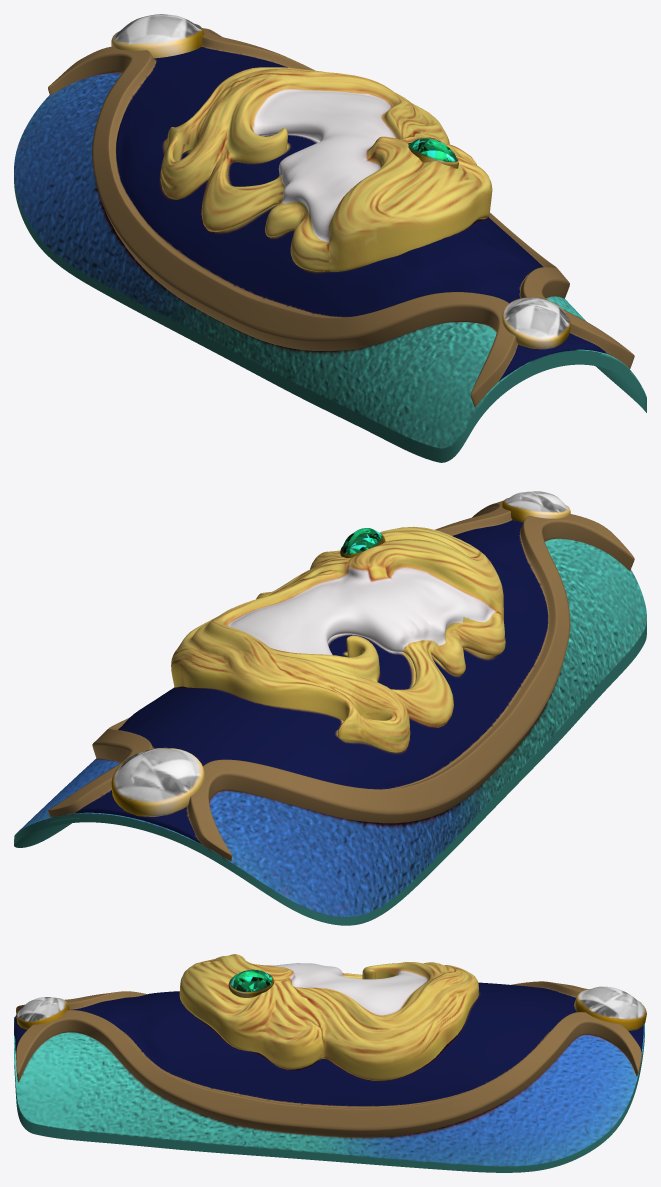
File: ai_shen_wumingzhi_L_tx03.obj
3 views of the same model, one above another, from view 1: azimuth 30°, elevation 25°; view 2: azimuth 150°, elevation 25°; view 3: azimuth 270°, elevation 25° (orthographic). The views are drawn at different scales.
Parts seen in each view (by area): view 1: MF_aishen_wumingzhi_L_tx03; view 2: MF_aishen_wumingzhi_L_tx03; view 3: MF_aishen_wumingzhi_L_tx03.
Boxes of the visible parts, box(x1,y1,x2,y2) form: MF_aishen_wumingzhi_L_tx03: box(14, 14, 646, 462); MF_aishen_wumingzhi_L_tx03: box(14, 491, 646, 925); MF_aishen_wumingzhi_L_tx03: box(14, 954, 646, 1172).
Size of the model in its own units: 11.9 by 7.1 by 26.5.
1 material, 1 textured.
